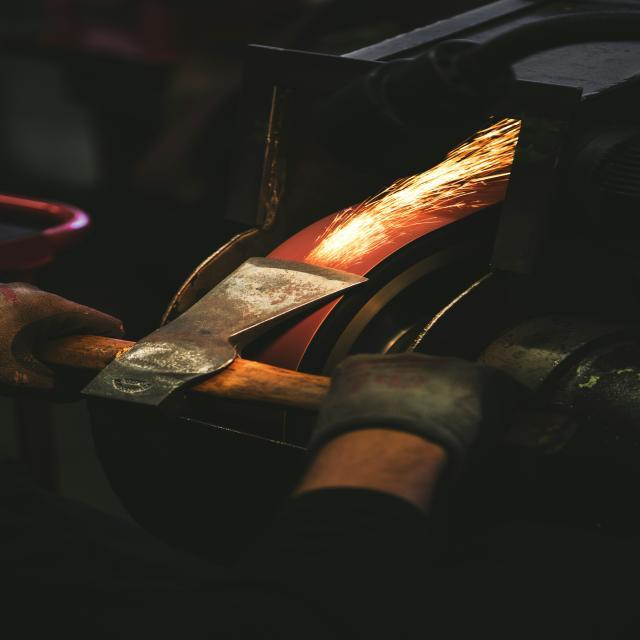Axe: (84, 258, 365, 404)
